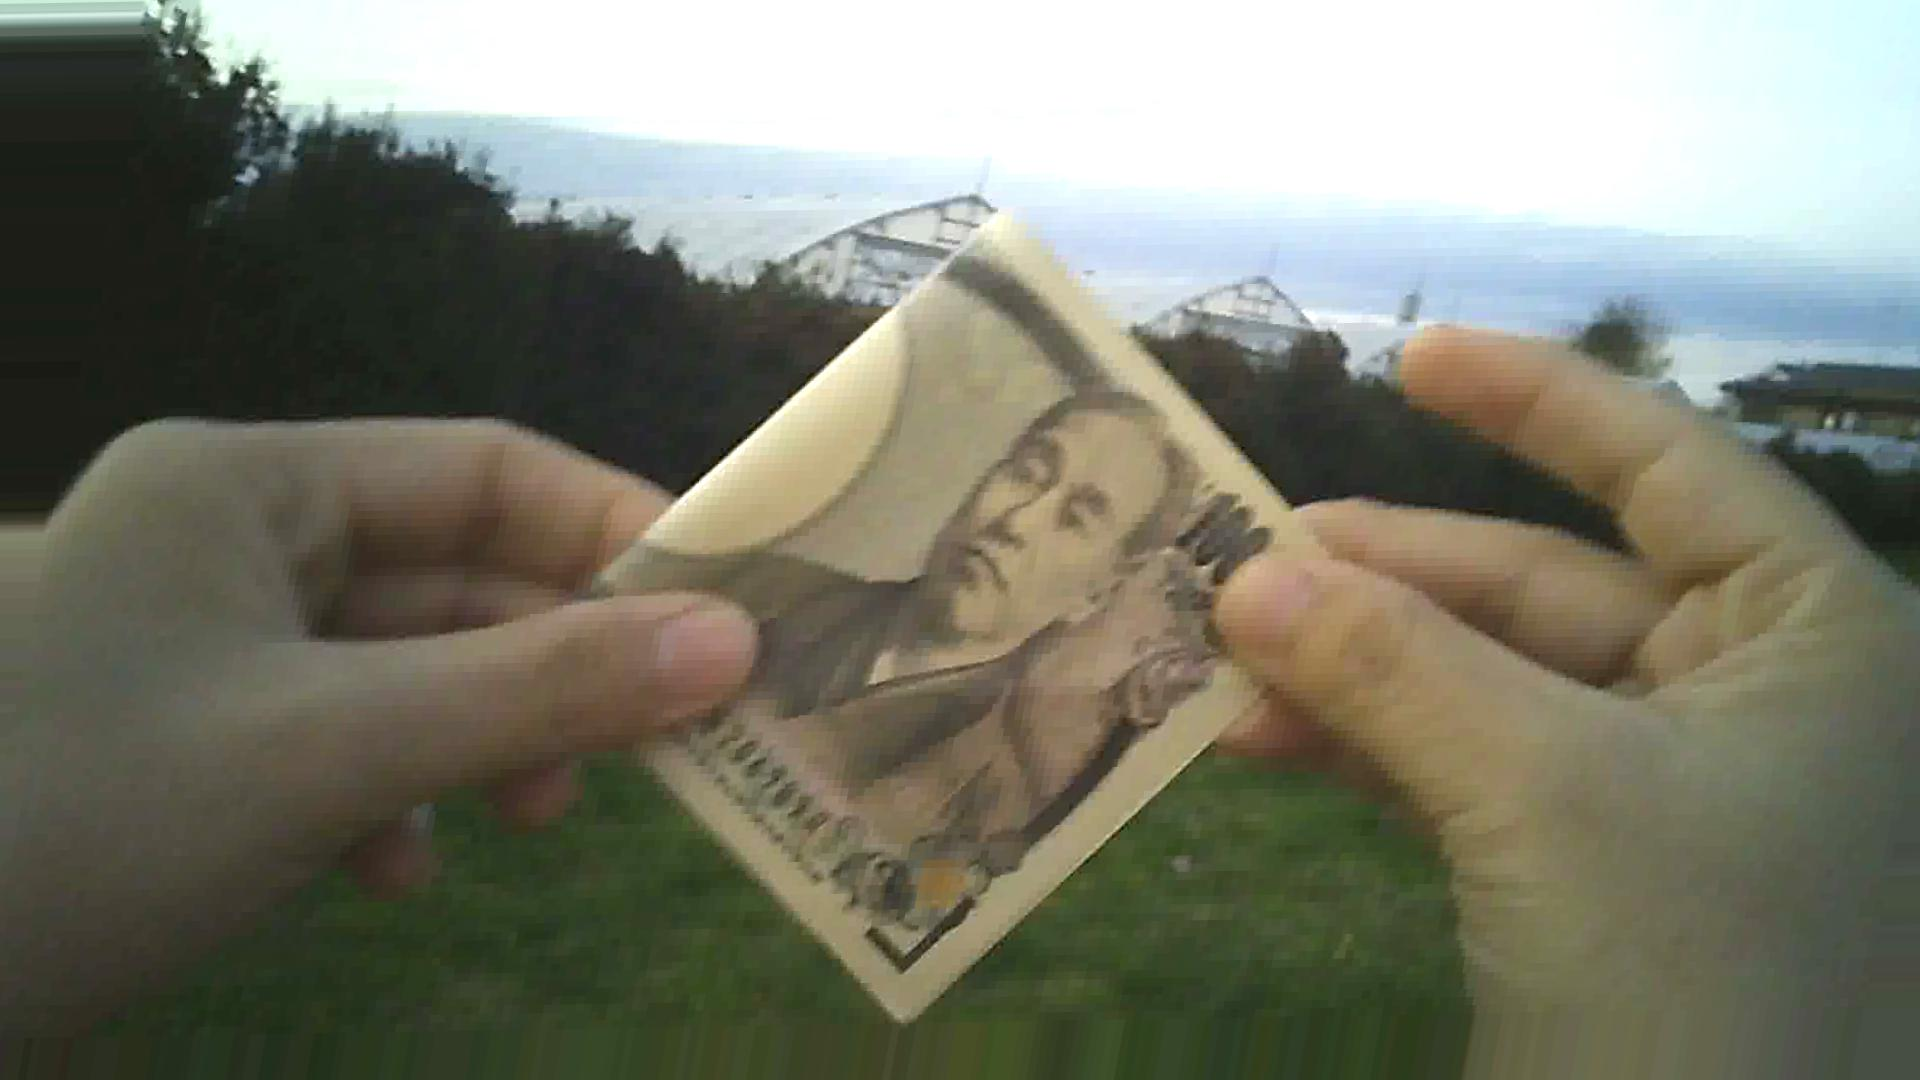10,000 Yen: (502, 224, 1337, 1007)
